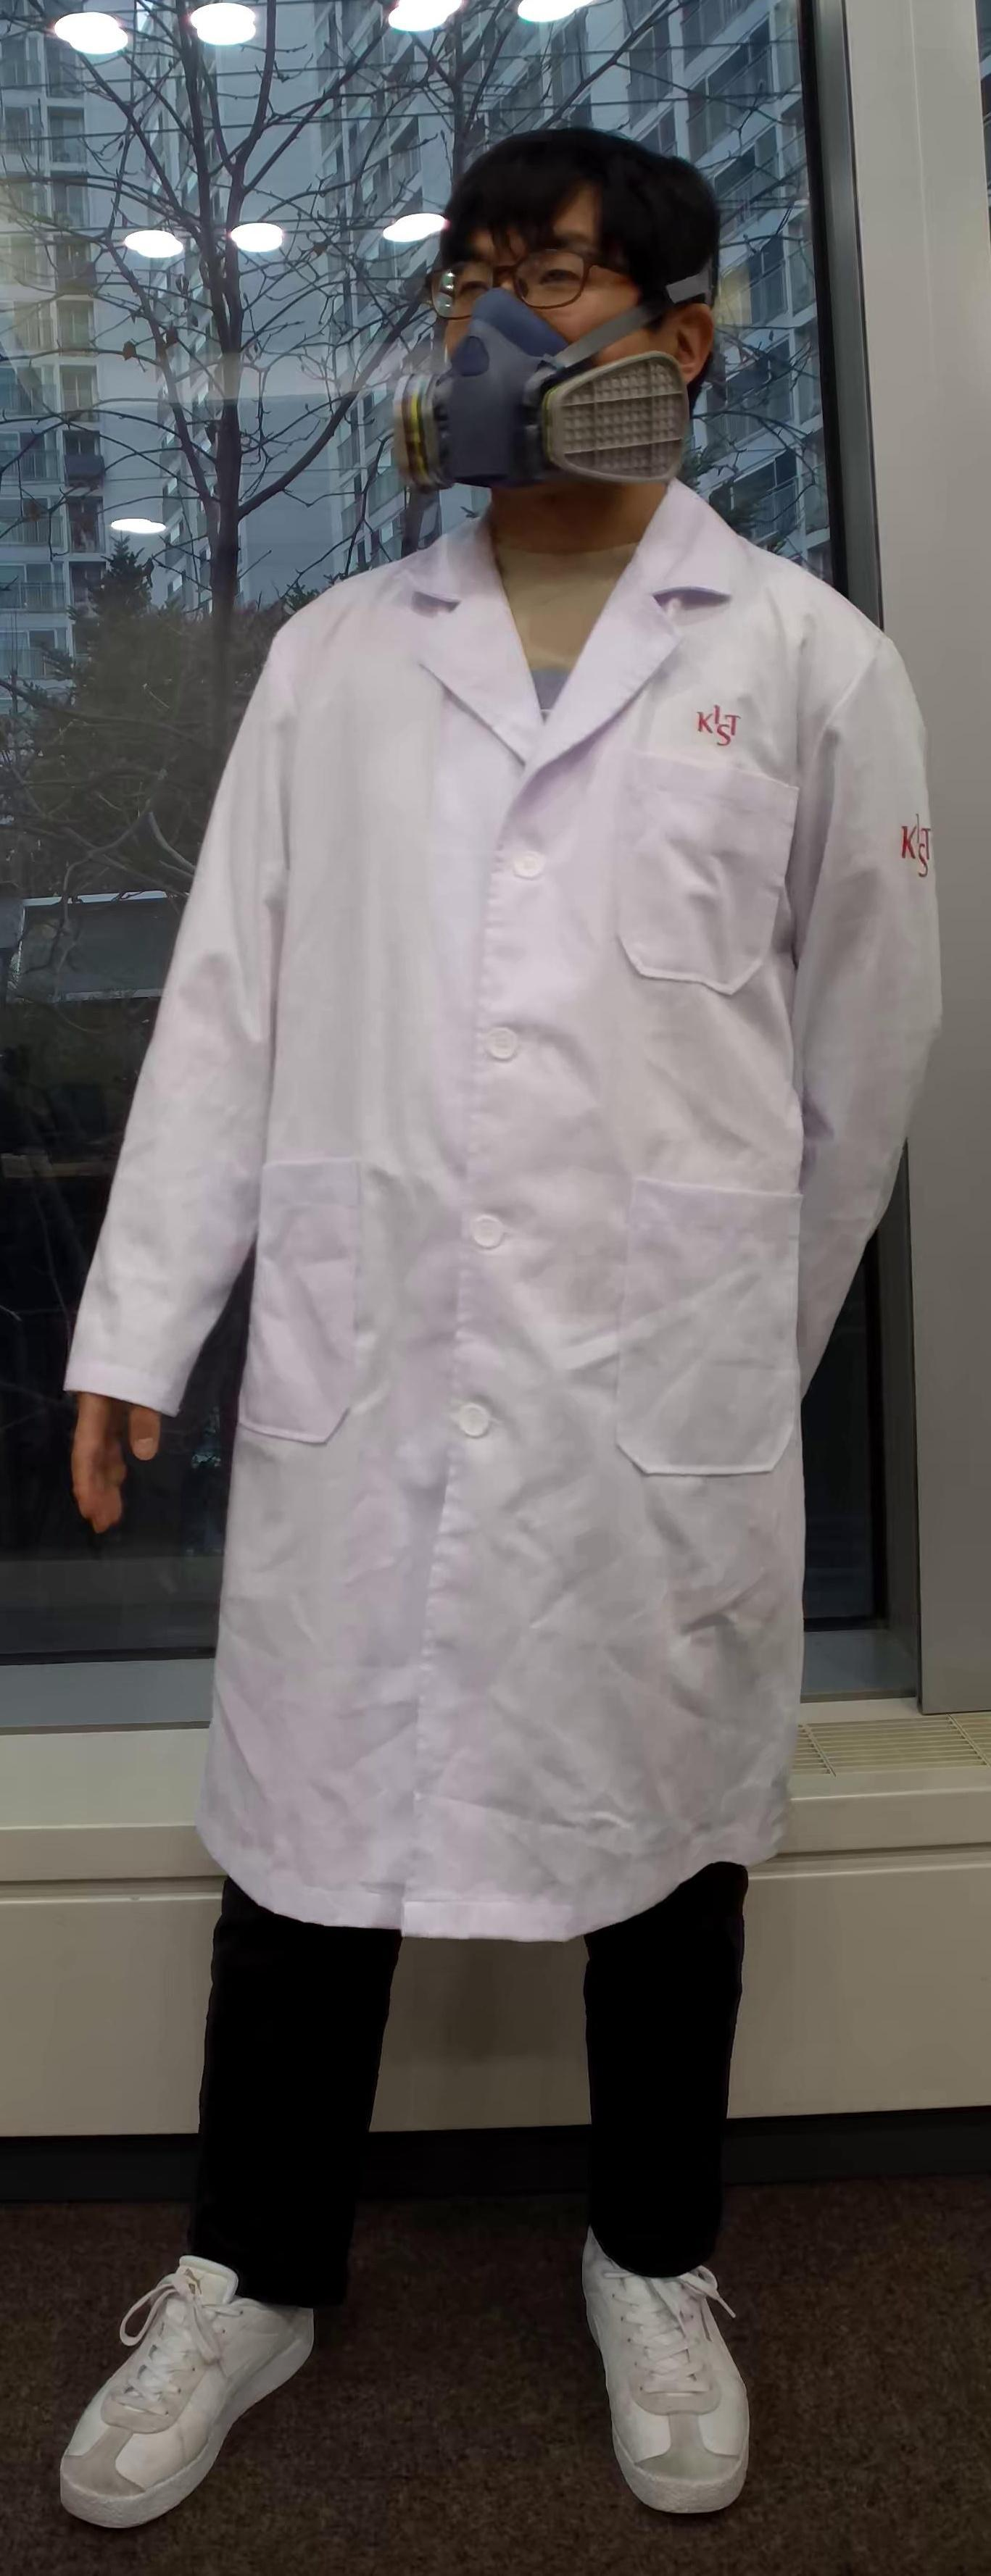lab_coat: (146, 480, 960, 1970)
